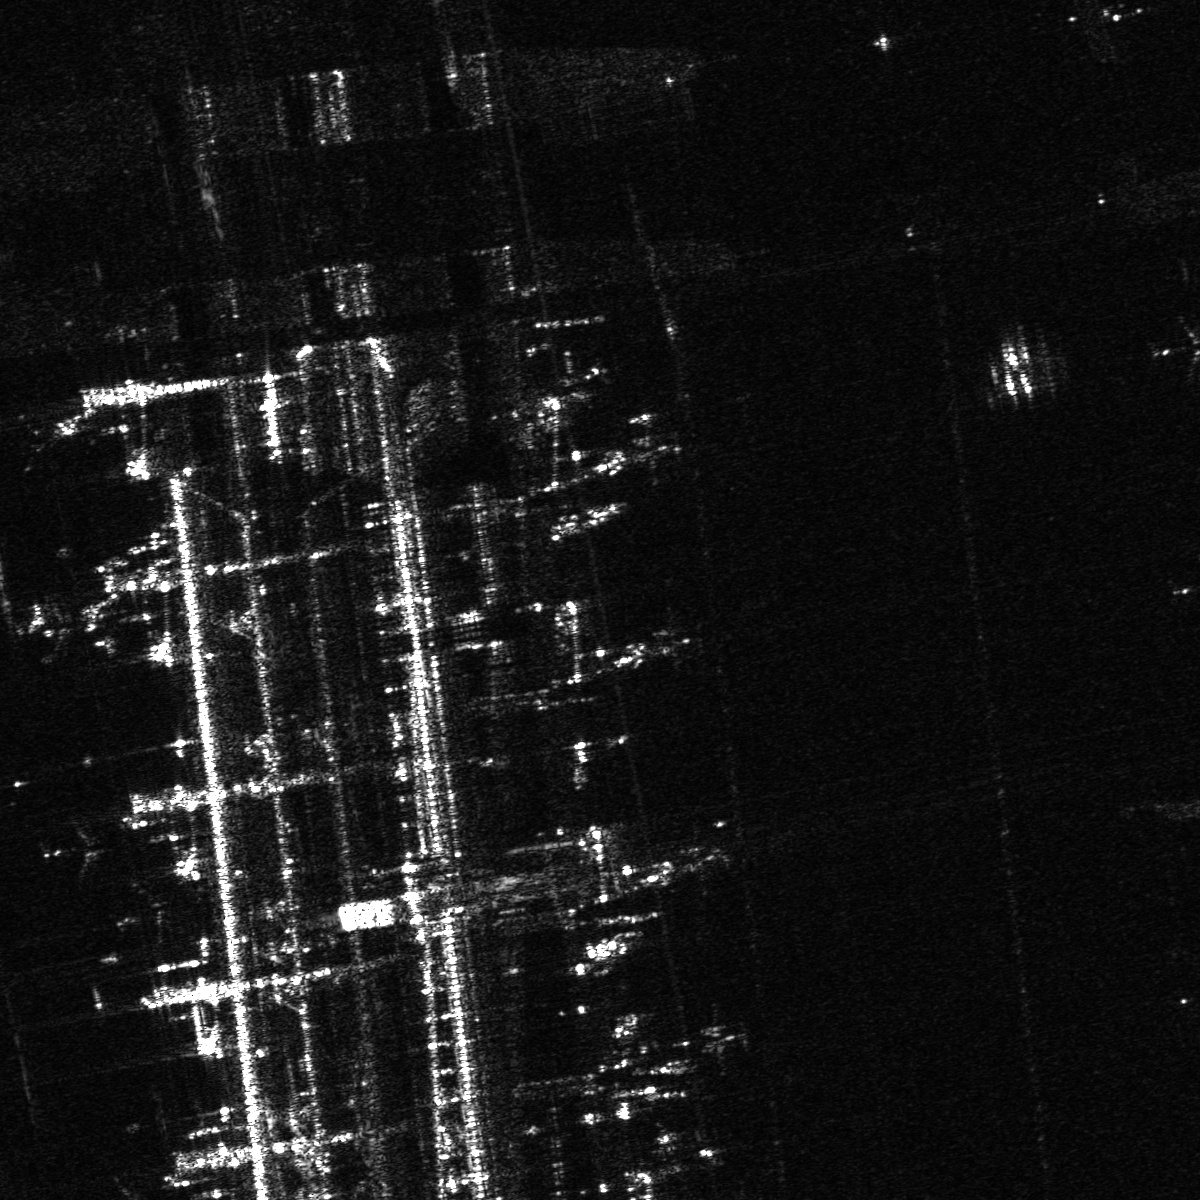Boeing737: (553, 349, 609, 409)
Boeing787: (43, 816, 123, 884), (114, 884, 184, 941)
